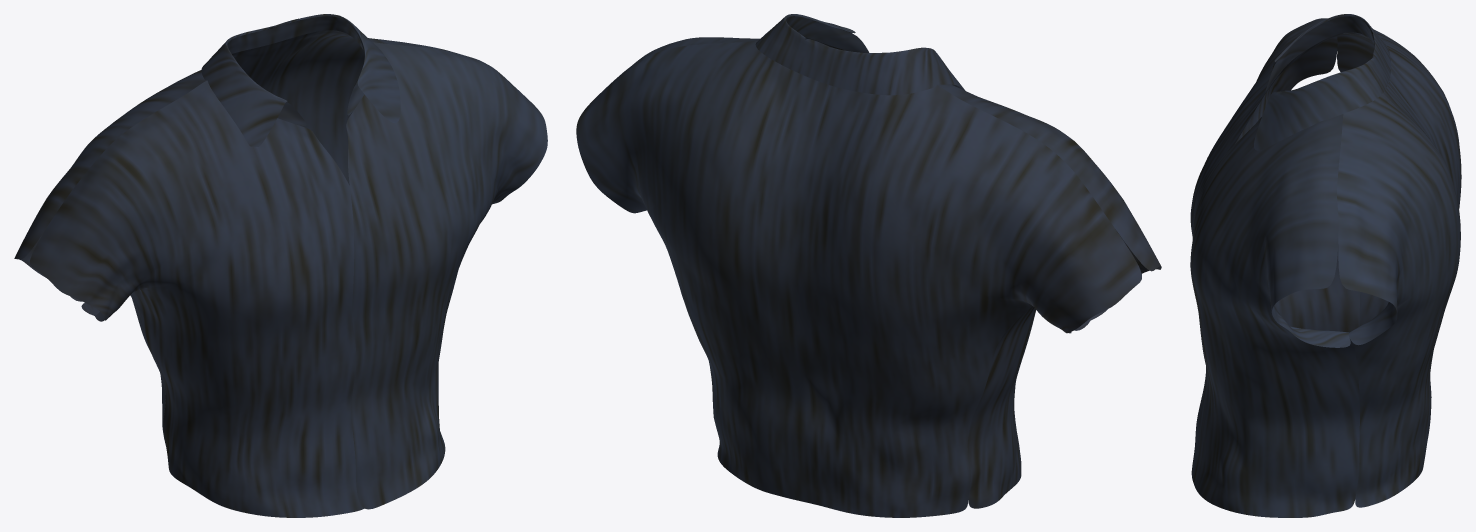
The model's file is SXS_XLM.dae.
3 renders of one model, left to right at view 1: azimuth 30°, elevation 25°; view 2: azimuth 150°, elevation 25°; view 3: azimuth 270°, elevation 25°, orthographic. The views are drawn at different scales.
Visible parts, largest first — view 1: shortshirt; view 2: shortshirt; view 3: shortshirt.
Boxes of the visible parts, left/top/right/bottom form: shortshirt: left=14, top=14, right=547, bottom=517; shortshirt: left=576, top=14, right=1161, bottom=517; shortshirt: left=1190, top=14, right=1461, bottom=517.
Bounding box in the file's own units: 6.11 × 4.9 × 2.79.
